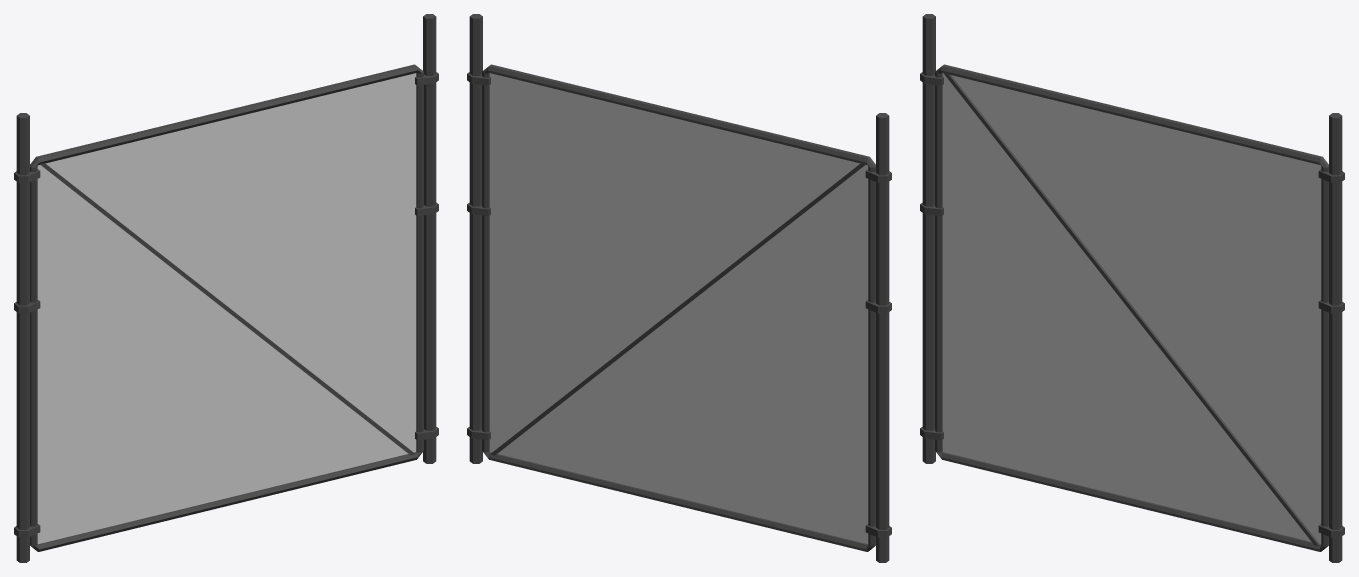
Rendered from checkpointChainlinkFence1.fbx.
The picture shows the model from 3 angles, left to right: view 1: azimuth 30°, elevation 25°; view 2: azimuth 150°, elevation 25°; view 3: azimuth 330°, elevation 25°; orthographic projection.
Visible parts, largest first — view 1: Cylinder; view 2: Cylinder; view 3: Cylinder.
Boxes of the visible parts, left/top/right/bottom form: Cylinder: left=14, top=14, right=438, bottom=562; Cylinder: left=467, top=14, right=891, bottom=562; Cylinder: left=920, top=14, right=1344, bottom=562.
Bounding box in the file's own units: 333 × 337 × 12.6.
